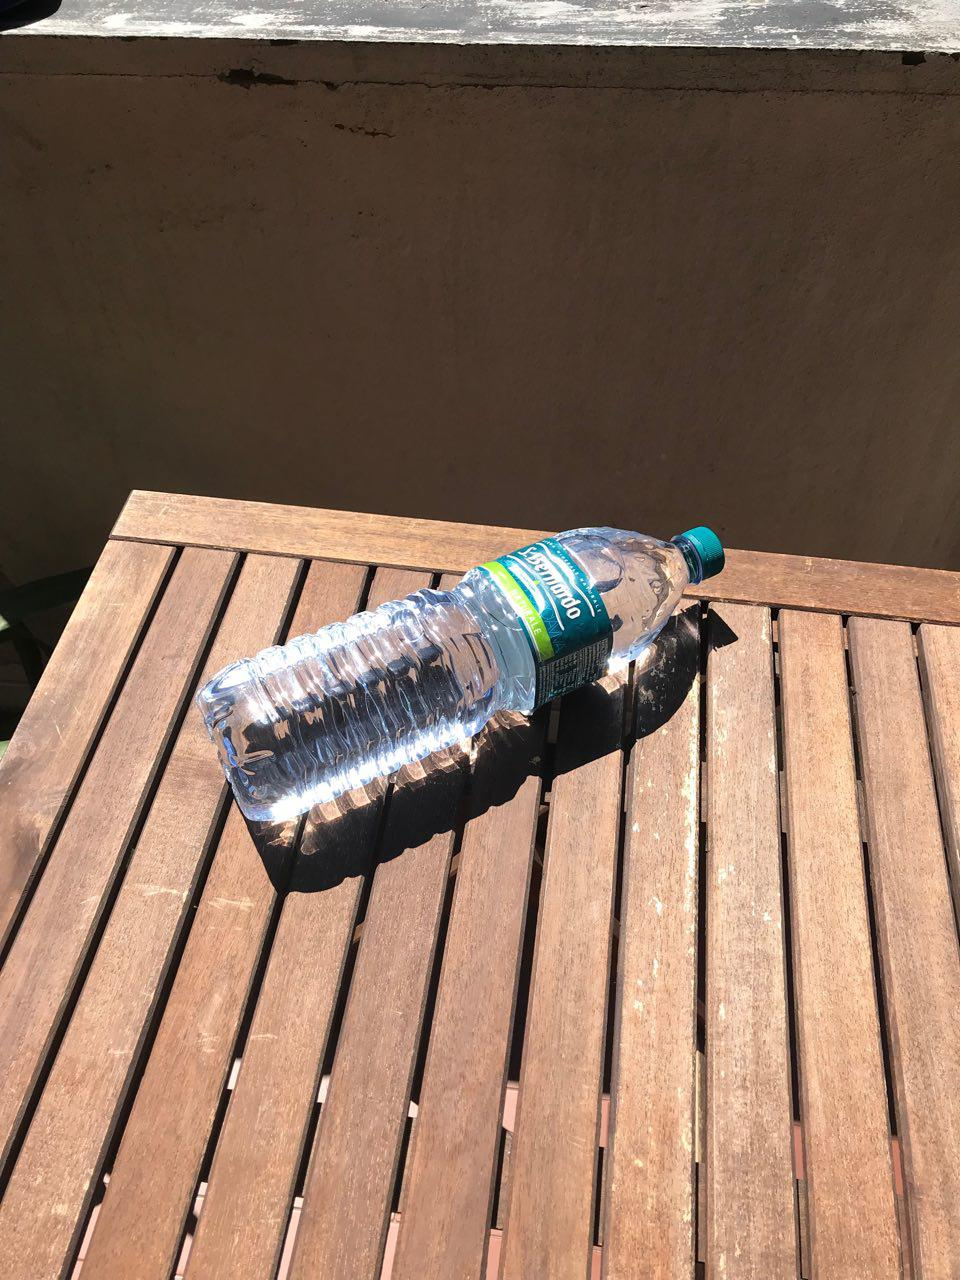san_bernardo: (194, 524, 725, 823)
